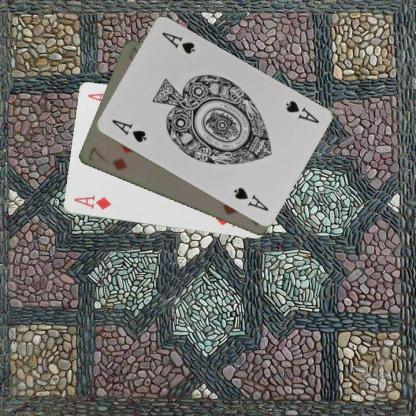7d: (85, 144, 128, 171)
Ad: (71, 192, 112, 212)
As: (109, 117, 148, 144), (283, 98, 320, 124)
